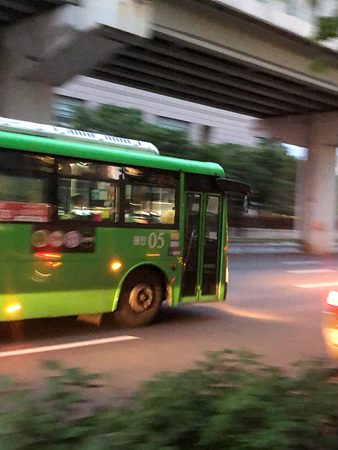entrance: (180, 185, 224, 302)
